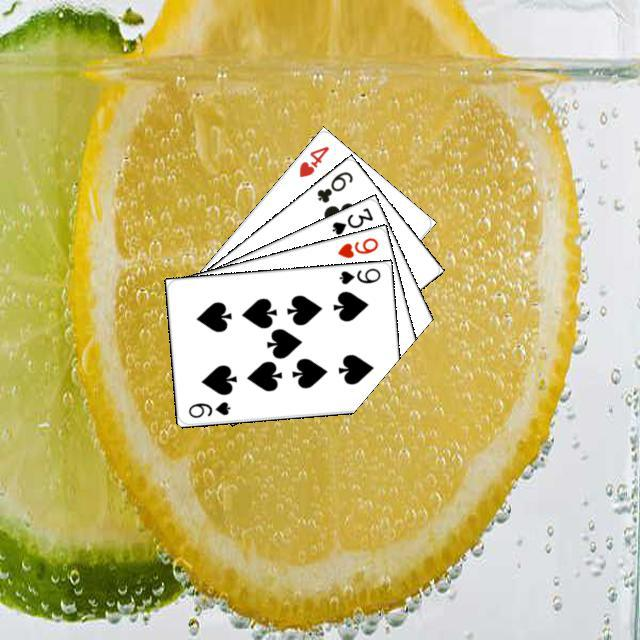3s: (327, 203, 375, 237)
4h: (294, 141, 331, 179)
6c: (312, 166, 355, 205)
9h: (332, 233, 380, 260)
9s: (334, 263, 382, 286), (184, 397, 232, 419)
